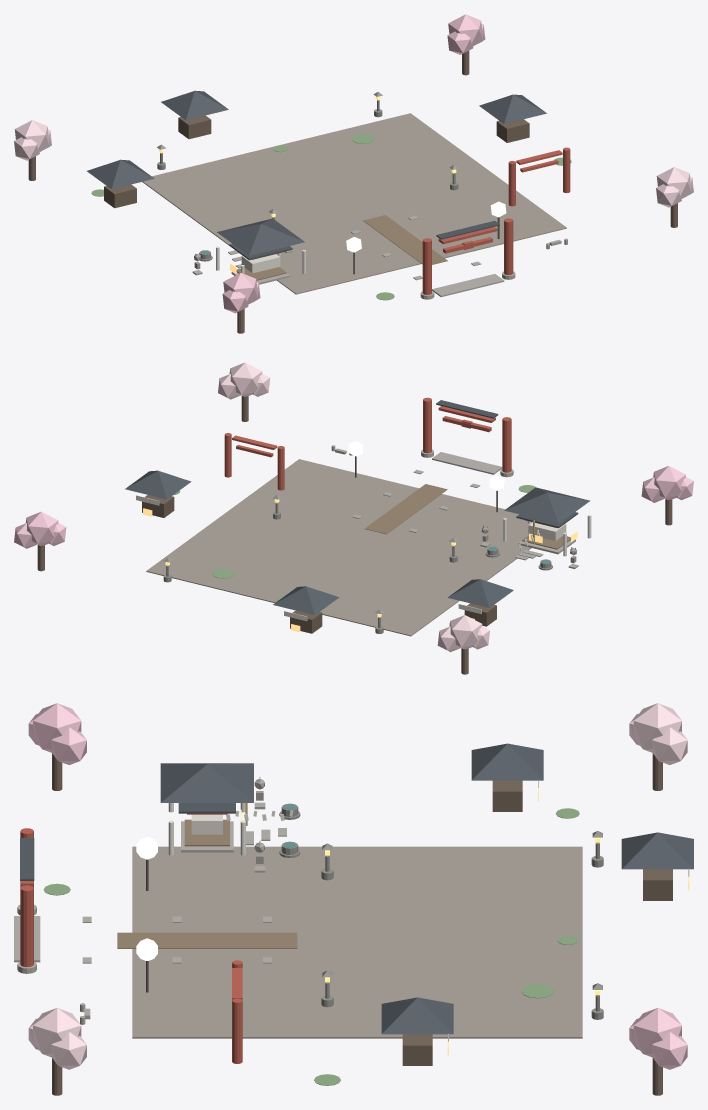
The model's file is temple.glb.
The picture shows the model from 3 angles, top to bottom: view 1: azimuth 30°, elevation 25°; view 2: azimuth 150°, elevation 25°; view 3: azimuth 270°, elevation 25°; orthographic projection. The views are drawn at different scales.
Parts seen in each view (by area): view 1: ground, shrineRoofTop, path, houseRoof20, houseRoof22, houseRoof21, toriiBase, canopy0a, canopy1a, canopy2a, canopy3a, houseBody1 (+5 smaller); view 2: ground, shrineRoofTop, path, houseRoof20, houseRoof21, houseRoof22, canopy2a, canopy0a, canopy1a, canopy3a, toriiBase, toriiPillar-1 (+3 smaller); view 3: ground, shrineRoofTop, path, houseRoof22, houseRoof21, houseRoof20, canopy0a, canopy1a, canopy2a, canopy3a, toriiPillar1, canopy2b (+12 smaller).
Boxes of the visible parts, x1,y1,x2,y2 form: ground: (142, 113, 566, 294); shrineRoofTop: (217, 218, 304, 255); path: (363, 215, 447, 264); houseRoof20: (87, 159, 154, 189); houseRoof22: (161, 90, 228, 120); houseRoof21: (479, 94, 546, 123); toriiBase: (432, 274, 504, 297); canopy0a: (223, 273, 258, 304); canopy1a: (656, 167, 691, 198); canopy2a: (14, 120, 49, 151); canopy3a: (448, 14, 483, 45); houseBody1: (496, 119, 529, 142); ground: (146, 459, 531, 636); shrineRoofTop: (504, 487, 590, 523); path: (364, 484, 447, 534); houseRoof20: (447, 579, 513, 607); houseRoof21: (125, 470, 191, 499); houseRoof22: (273, 586, 338, 614); canopy2a: (449, 615, 482, 649); canopy0a: (653, 466, 685, 500); canopy1a: (229, 362, 262, 396); canopy3a: (25, 511, 58, 545); toriiBase: (432, 452, 502, 474); toriiPillar-1: (502, 417, 511, 472); ground: (132, 846, 582, 1038); shrineRoofTop: (160, 763, 253, 802); path: (117, 932, 297, 948); houseRoof22: (621, 832, 693, 869); houseRoof21: (381, 997, 453, 1034); houseRoof20: (471, 743, 543, 780); canopy0a: (33, 703, 81, 752); canopy1a: (33, 1008, 81, 1057); canopy2a: (633, 703, 681, 752); canopy3a: (633, 1008, 681, 1057); toriiPillar1: (20, 885, 33, 967); canopy2b: (652, 727, 687, 764).
Size of the model in its own units: 52.7 by 6.45 by 45.28.
